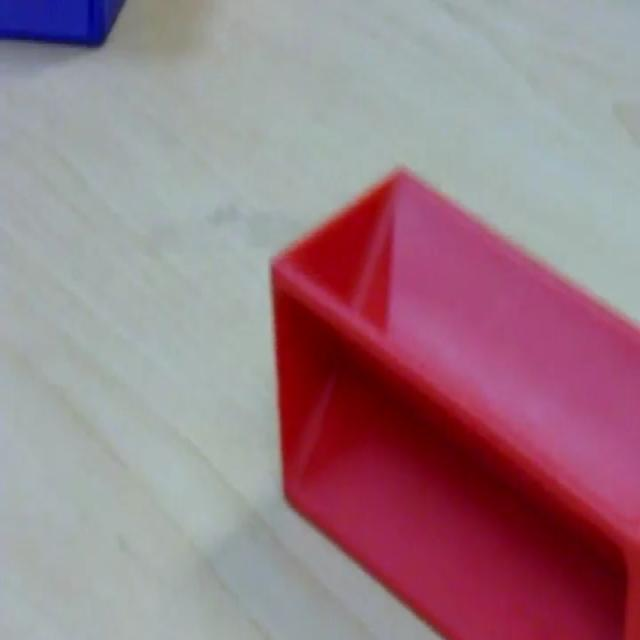red_block: (268, 163, 638, 636)
